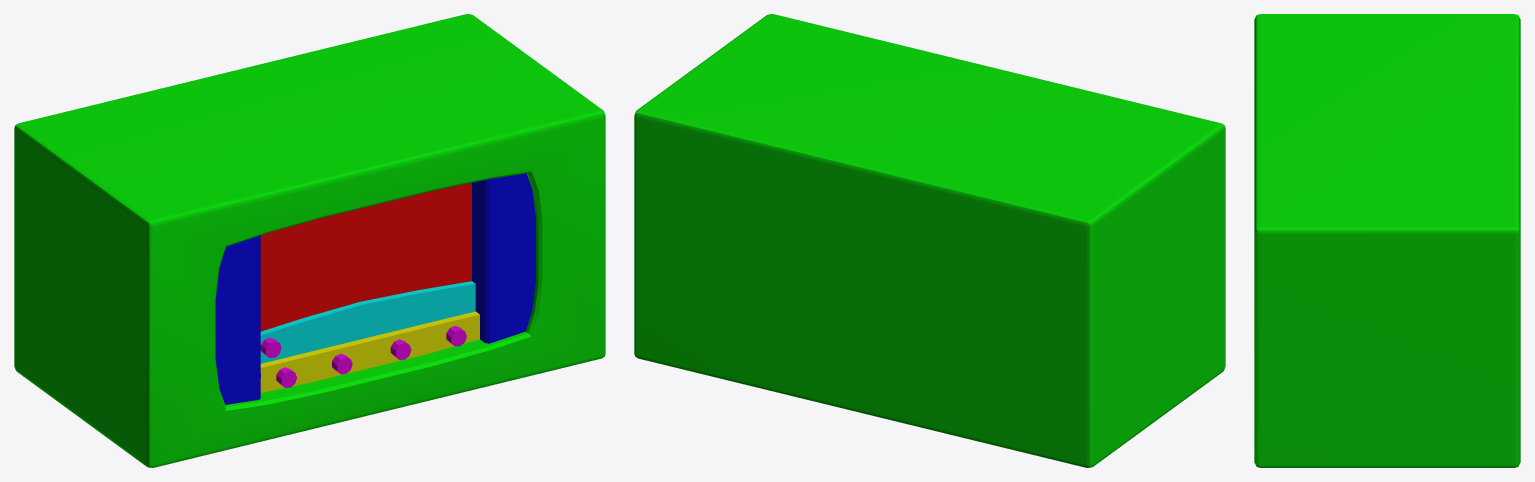
File: radio_game2.fbx
The picture shows the model from 3 angles, left to right: view 1: azimuth 30°, elevation 25°; view 2: azimuth 150°, elevation 25°; view 3: azimuth 270°, elevation 25°; orthographic projection. The views are drawn at different scales.
Visible parts, largest first — view 1: radio; view 2: radio; view 3: radio.
Boxes of the visible parts, left/top/right/bottom form: radio: left=14, top=14, right=605, bottom=467; radio: left=634, top=14, right=1225, bottom=467; radio: left=1254, top=14, right=1520, bottom=467.
Bounding box in the file's own units: 6.29 × 3.25 × 3.25.
